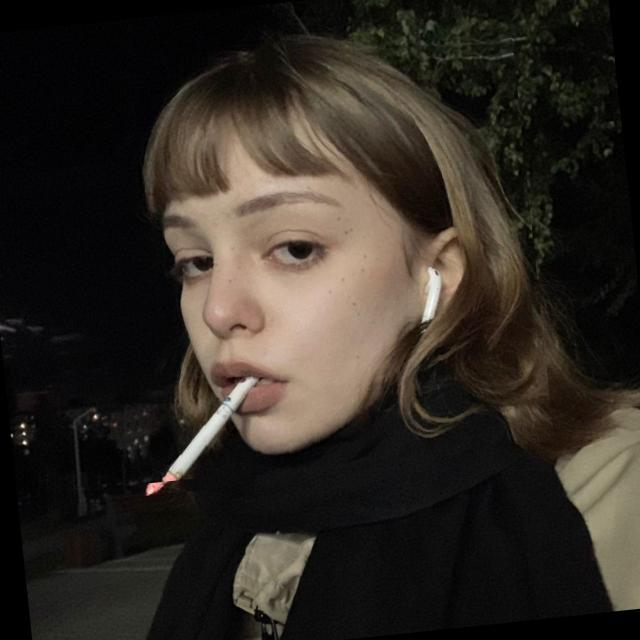cigarette: (110, 348, 268, 498)
